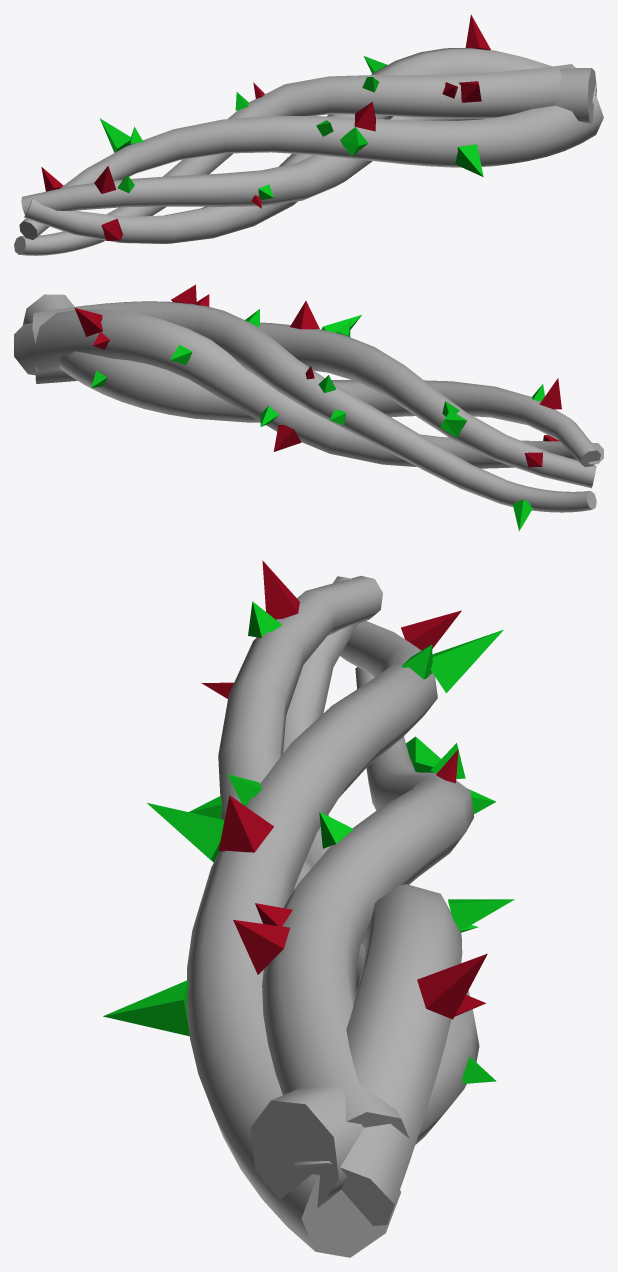
File: Root_Spike_Final.fbx
3 views of the same model, one above another, from view 1: azimuth 30°, elevation 25°; view 2: azimuth 150°, elevation 25°; view 3: azimuth 270°, elevation 25° (orthographic). The views are drawn at different scales.
Visible parts, largest first — view 1: group9_polySurface57; view 2: group9_polySurface57; view 3: group9_polySurface57.
Part boxes in pixels (x1,y1,x2,y2): group9_polySurface57: (14,14,603,255); group9_polySurface57: (14,284,603,531); group9_polySurface57: (103,560,514,1257).
Bounding box in the file's own units: 3.5 × 0.7182 × 1.09.
